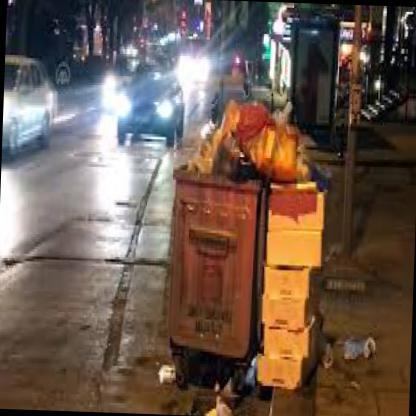Garbage: (247, 89, 334, 396), (195, 84, 316, 177), (240, 100, 302, 179), (210, 132, 252, 178), (337, 332, 381, 367), (207, 101, 242, 138), (148, 354, 180, 388), (188, 396, 239, 415)
